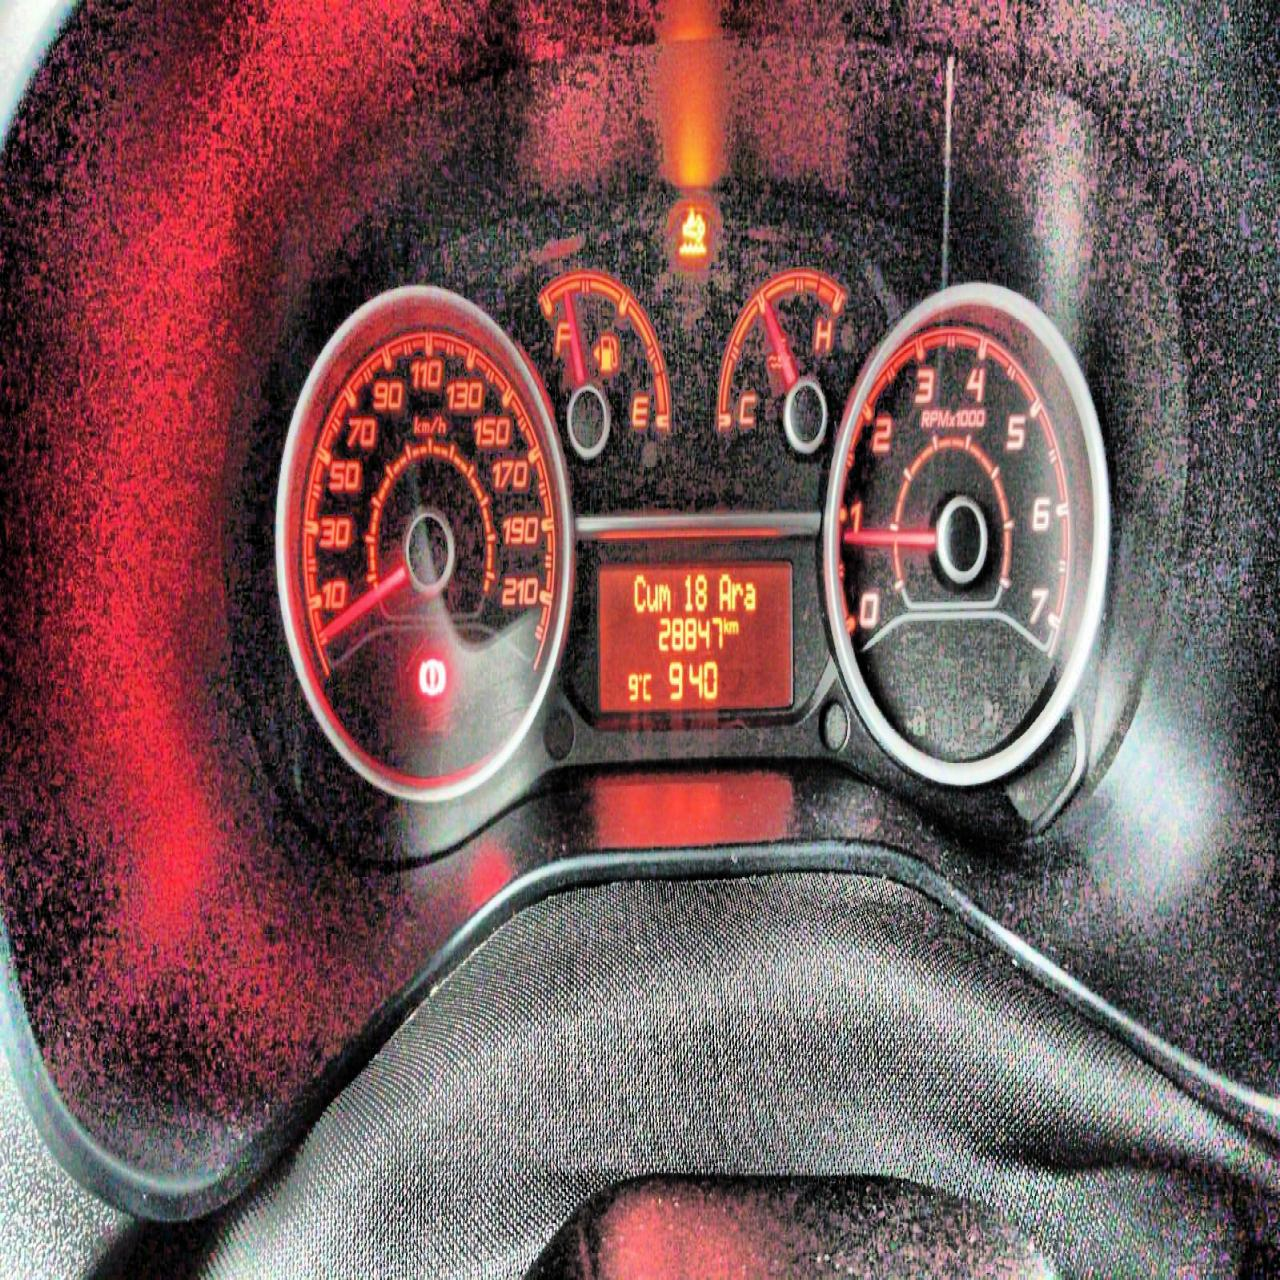0: (702, 659, 719, 699)
1: (681, 571, 693, 611)
2: (656, 615, 670, 651)
4: (687, 660, 702, 697), (695, 615, 710, 648)
7: (712, 615, 723, 649)
8: (693, 571, 707, 611), (682, 615, 695, 651), (670, 615, 683, 651)
9: (668, 658, 682, 702), (627, 673, 638, 701)
X: (716, 570, 730, 612), (632, 571, 646, 612), (743, 580, 757, 612), (658, 580, 670, 612), (646, 579, 658, 613), (731, 579, 742, 611), (642, 673, 652, 701), (727, 618, 738, 635), (722, 614, 728, 635)
odometer: (593, 552, 797, 724)
